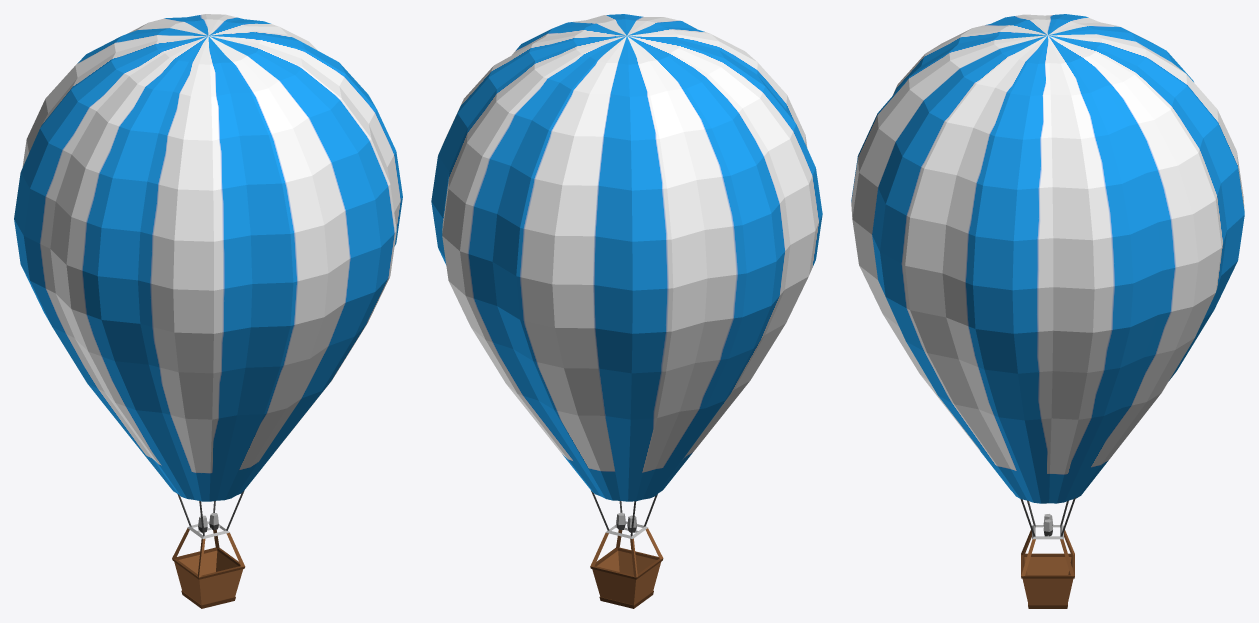
The model's file is GloboS.fbx.
3 renders of one model, left to right at view 1: azimuth 30°, elevation 25°; view 2: azimuth 150°, elevation 25°; view 3: azimuth 270°, elevation 25°, orthographic.
Parts seen in each view (by area): view 1: Hot Air Balloon; view 2: Hot Air Balloon; view 3: Hot Air Balloon.
Part boxes in pixels (left/top/right/bottom): Hot Air Balloon: left=14, top=14, right=402, bottom=608; Hot Air Balloon: left=431, top=14, right=822, bottom=608; Hot Air Balloon: left=851, top=14, right=1244, bottom=608.
Bounding box in the file's own units: 49.14 × 78.93 × 49.81.
Materials: 1 (1 with a texture image).
